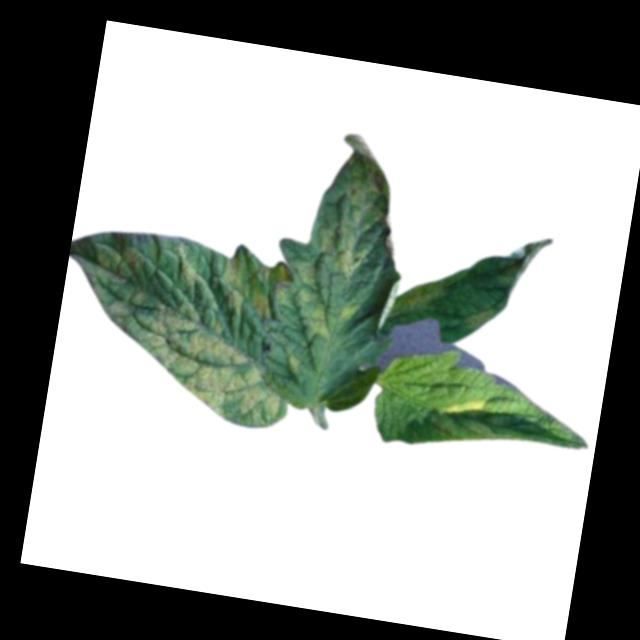Leaf_Mold: (48, 224, 311, 433), (310, 129, 402, 283), (301, 292, 359, 343), (439, 390, 486, 421), (464, 298, 503, 333)
